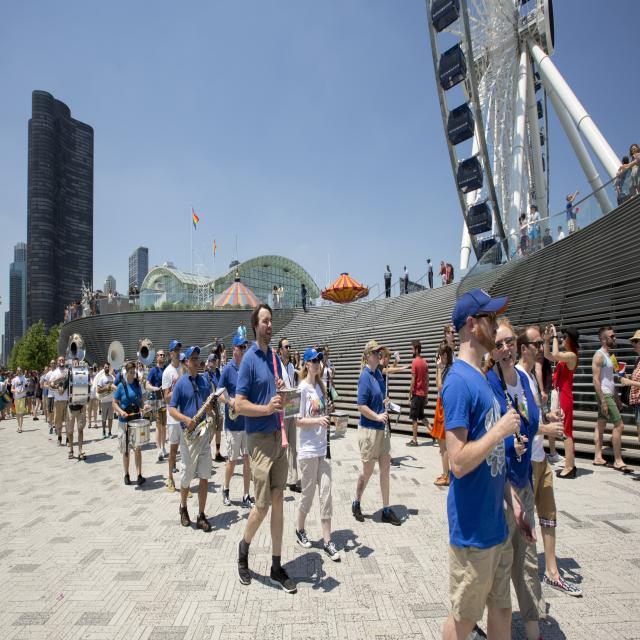body: (440, 286, 538, 639), (481, 315, 549, 640), (234, 302, 302, 595), (514, 323, 583, 597), (293, 346, 351, 564), (351, 338, 402, 528), (168, 346, 214, 533), (215, 334, 255, 511), (591, 324, 635, 474), (542, 322, 581, 481), (161, 339, 194, 499), (111, 361, 152, 486), (533, 325, 566, 462), (376, 346, 410, 468), (615, 329, 640, 483), (278, 336, 302, 492), (429, 338, 454, 487), (405, 339, 438, 448), (58, 357, 87, 461), (202, 353, 226, 463), (145, 349, 168, 459), (439, 324, 455, 456), (48, 355, 70, 447), (323, 344, 345, 432), (92, 360, 115, 440), (316, 346, 338, 416), (10, 365, 28, 434), (619, 143, 640, 197), (44, 359, 58, 435), (111, 358, 141, 391), (135, 358, 150, 418), (46, 365, 58, 435), (86, 366, 98, 429), (527, 204, 541, 256), (618, 156, 632, 204), (32, 369, 44, 421), (39, 365, 49, 423), (566, 190, 578, 235), (3, 373, 14, 419), (292, 348, 303, 388), (26, 372, 36, 416), (518, 213, 528, 256), (0, 381, 10, 420), (614, 170, 624, 207), (97, 365, 104, 415), (31, 369, 38, 410), (384, 264, 392, 298), (437, 260, 447, 286), (426, 258, 434, 290), (300, 283, 308, 314), (112, 289, 122, 313), (212, 336, 220, 365), (82, 291, 91, 316), (542, 228, 553, 248), (237, 320, 247, 341), (219, 343, 227, 369), (614, 171, 622, 197), (450, 336, 457, 363), (403, 265, 409, 295), (128, 287, 135, 312), (74, 299, 83, 318), (555, 225, 565, 242), (215, 358, 223, 378), (134, 285, 140, 311), (107, 289, 113, 314), (278, 284, 284, 308), (272, 285, 278, 309), (94, 292, 100, 315), (94, 292, 100, 314), (88, 295, 94, 317), (448, 263, 454, 284), (200, 360, 208, 375), (179, 352, 186, 369), (164, 353, 172, 367), (72, 300, 78, 318), (64, 304, 70, 322), (69, 302, 74, 322), (516, 242, 522, 258), (90, 292, 94, 316), (446, 263, 450, 285), (0, 368, 6, 382), (70, 303, 74, 320), (273, 347, 280, 356), (506, 254, 513, 263), (93, 365, 98, 377), (10, 369, 16, 379), (273, 297, 278, 309), (22, 369, 28, 378), (73, 300, 76, 317), (112, 369, 118, 377), (80, 360, 88, 366), (526, 236, 529, 250), (4, 370, 9, 378), (146, 366, 150, 374), (14, 370, 18, 378), (209, 348, 213, 354), (125, 357, 131, 361), (56, 361, 59, 368), (35, 370, 38, 376), (37, 372, 40, 378), (100, 366, 104, 370), (294, 303, 297, 308), (25, 375, 29, 378), (577, 226, 580, 230), (22, 370, 24, 376), (96, 367, 98, 372), (40, 368, 42, 372)
